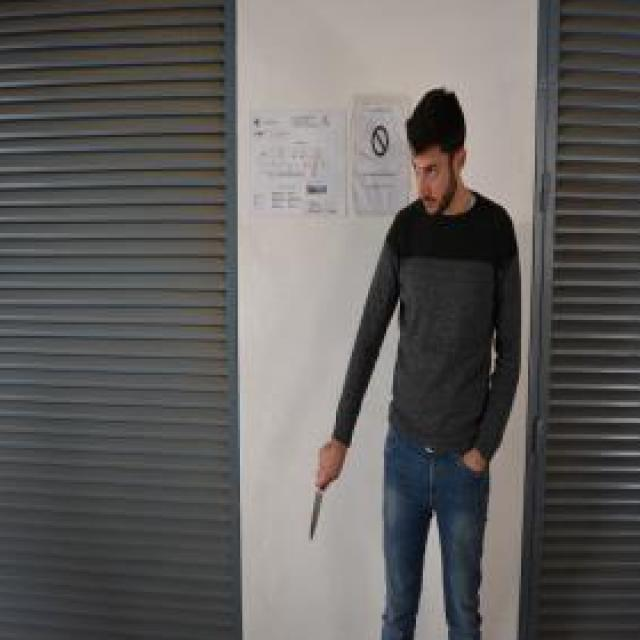knife: (308, 462, 334, 546)
